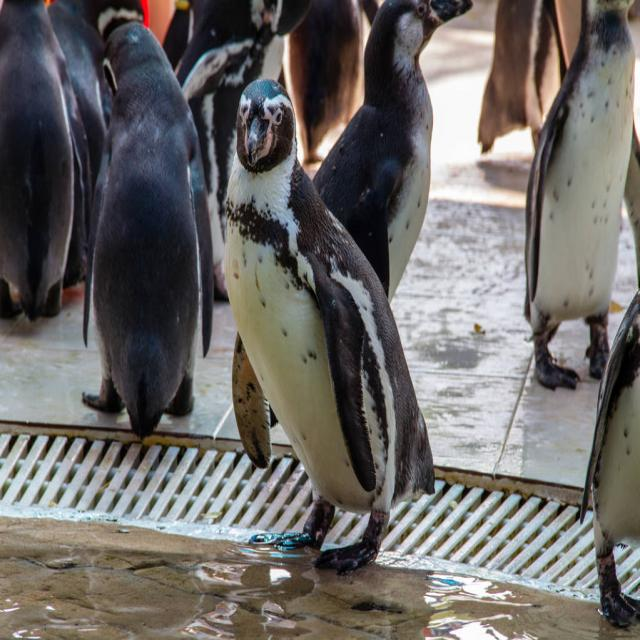Penguins: (227, 65, 424, 548), (296, 0, 491, 300), (84, 19, 208, 434), (515, 0, 640, 385), (0, 0, 79, 340)
